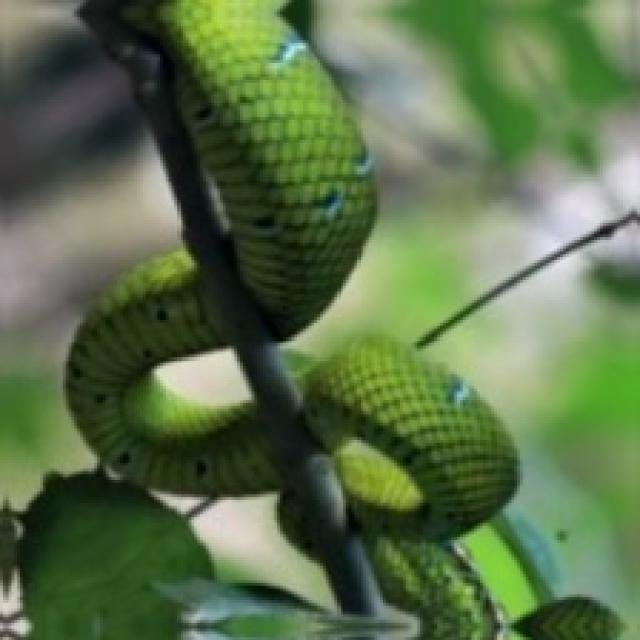north ph temple pitviper: (66, 0, 514, 637)
